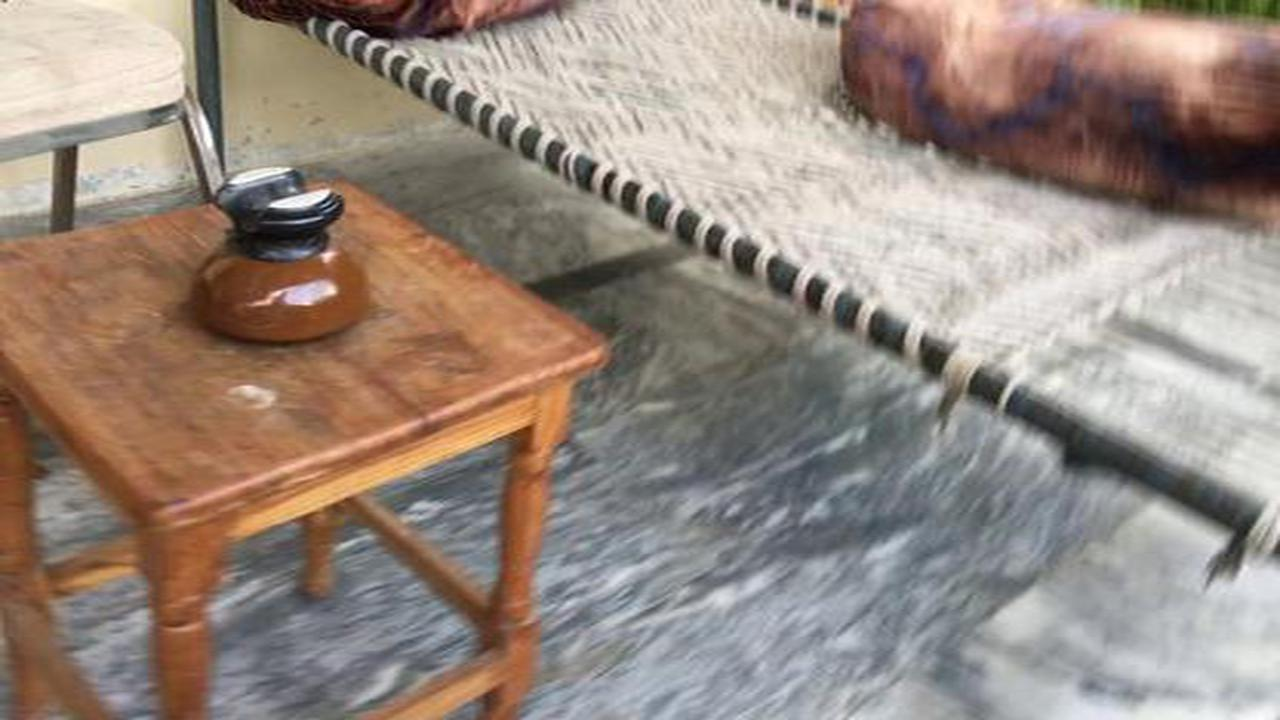insulator_pin: (164, 144, 382, 367)
